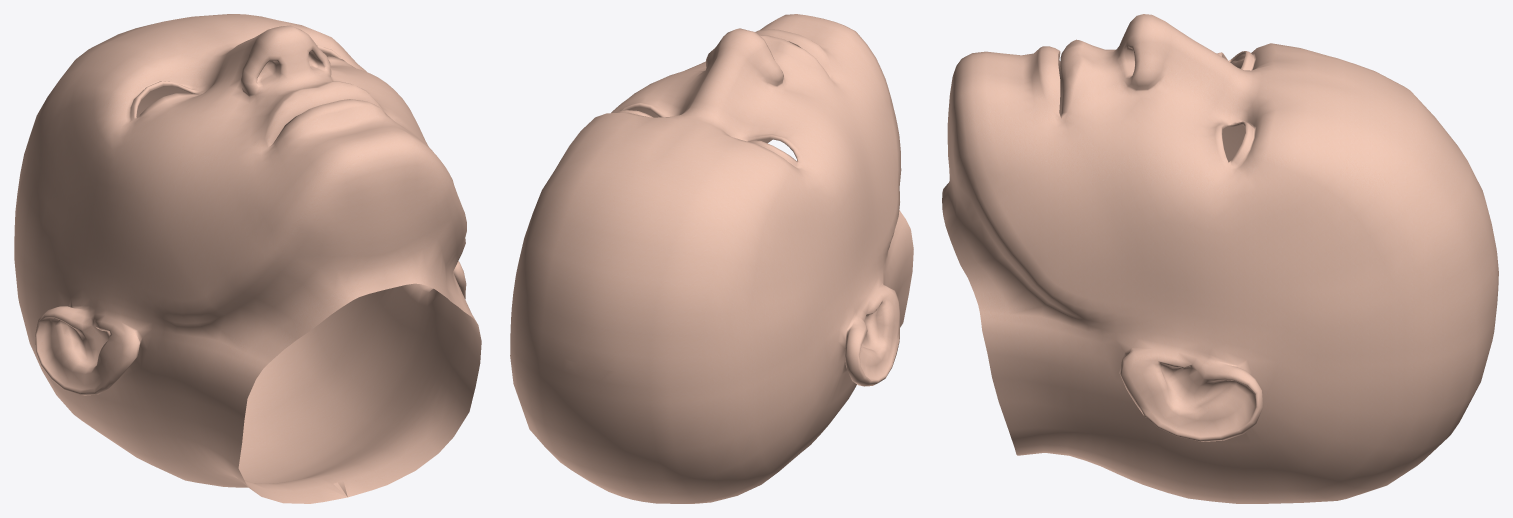
3 views of the same model, side by side, from view 1: azimuth 30°, elevation 25°; view 2: azimuth 150°, elevation 25°; view 3: azimuth 270°, elevation 25° (orthographic). The views are drawn at different scales.
Parts seen in each view (by area): view 1: male_head_obj; view 2: male_head_obj; view 3: male_head_obj.
Boxes of the visible parts, <box> form: male_head_obj: <box>14,14,481,503</box>; male_head_obj: <box>510,14,913,503</box>; male_head_obj: <box>942,14,1498,503</box>.
Bounding box in the file's own units: 84.59 × 97.93 × 106.
1 material, 1 textured.
